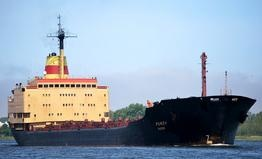Cargoship: (4, 14, 258, 151)
